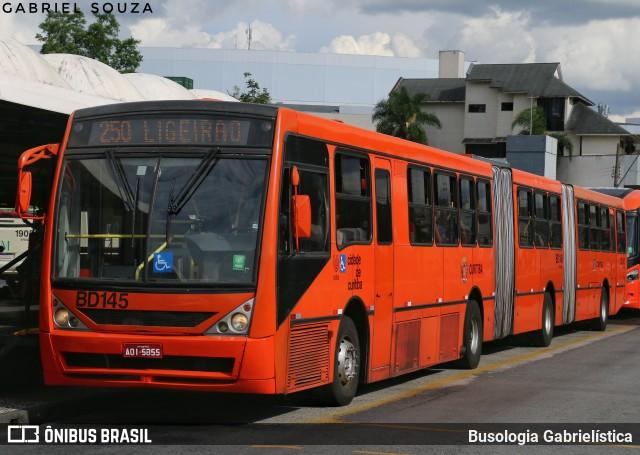LIGEIRAO: (138, 116, 245, 146)
